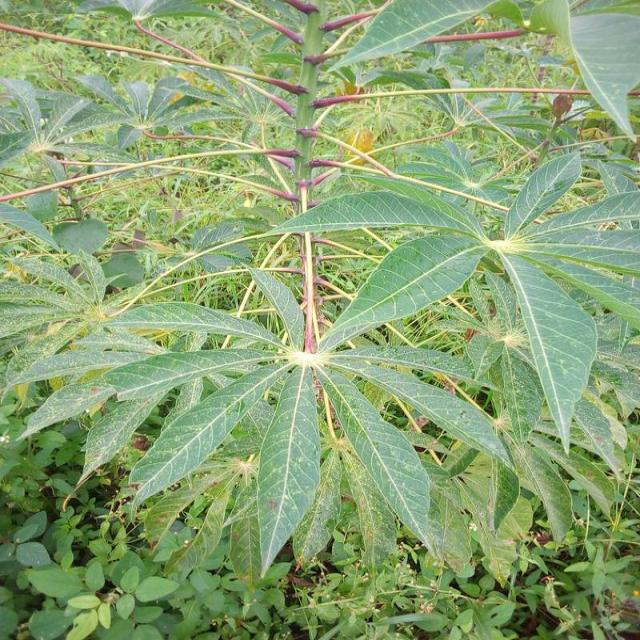cassava leaf: (1, 1, 638, 592), (497, 248, 598, 454), (255, 363, 321, 578)
